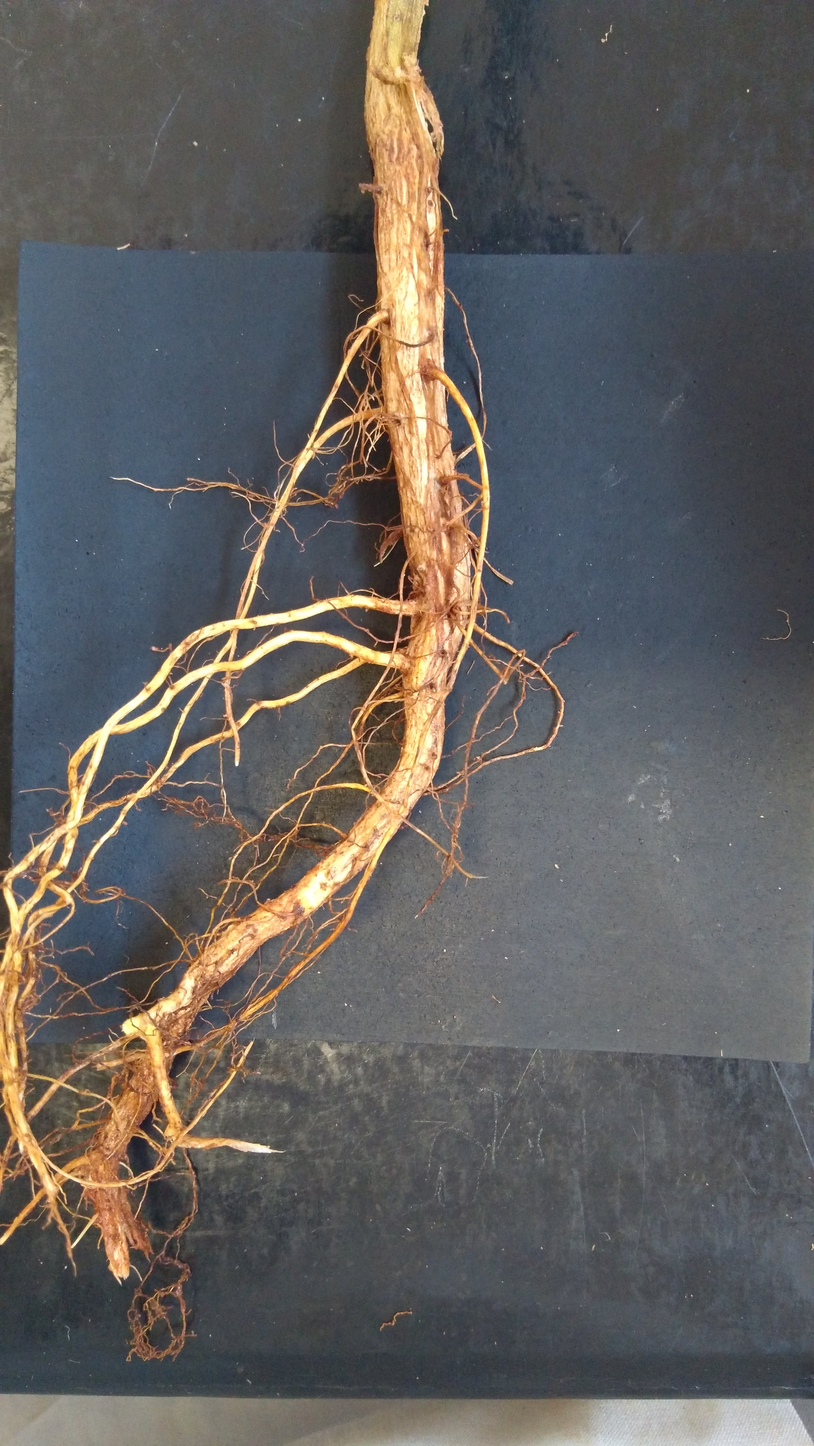nodule: (85, 1178, 132, 1214), (159, 1009, 189, 1042), (78, 1158, 109, 1189), (96, 1119, 119, 1155), (128, 1065, 155, 1095), (404, 55, 422, 82), (18, 1134, 37, 1157), (19, 992, 38, 1012), (164, 1121, 181, 1142), (429, 130, 444, 144), (164, 1051, 171, 1058)
